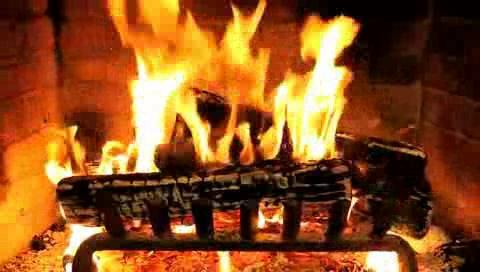fire: (113, 8, 364, 177)
